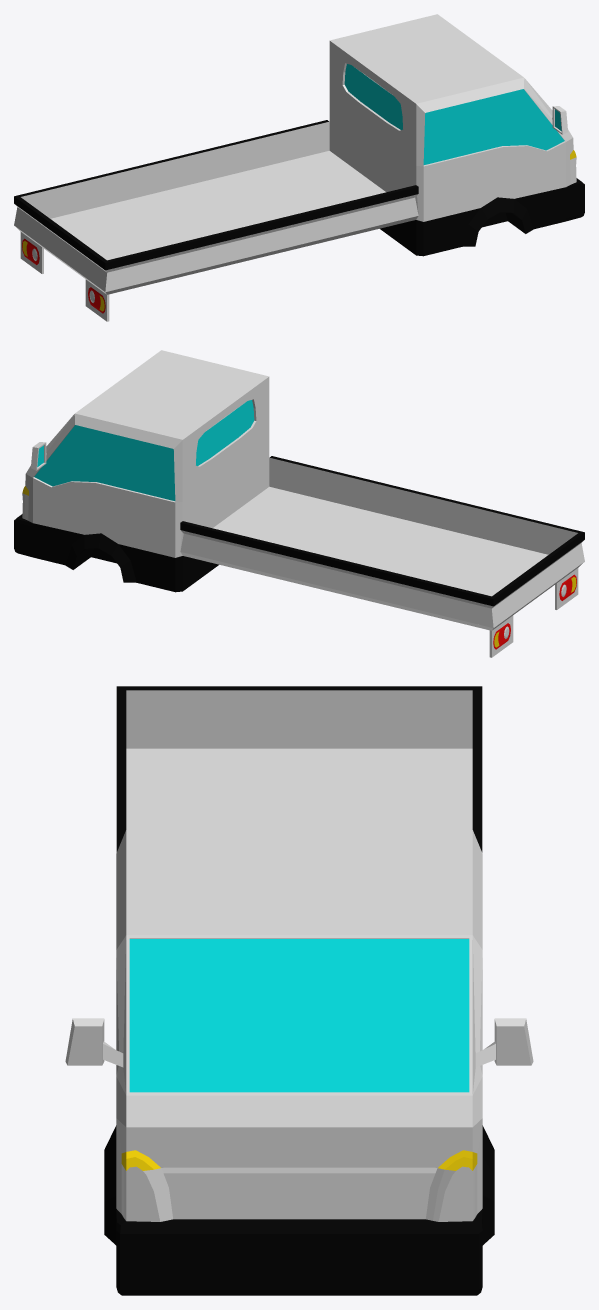
Rendered from Porter.fbx.
3 renders of one model, top to bottom at view 1: azimuth 30°, elevation 25°; view 2: azimuth 150°, elevation 25°; view 3: azimuth 270°, elevation 25°, orthographic. The views are drawn at different scales.
Visible parts, largest first — view 1: Plane; view 2: Plane; view 3: Plane.
Boxes of the visible parts, x1,y1,x2,y2 form: Plane: (14, 14, 584, 321); Plane: (14, 350, 584, 657); Plane: (65, 686, 533, 1295).
Size of the model in its own units: 513 by 155 by 216.
